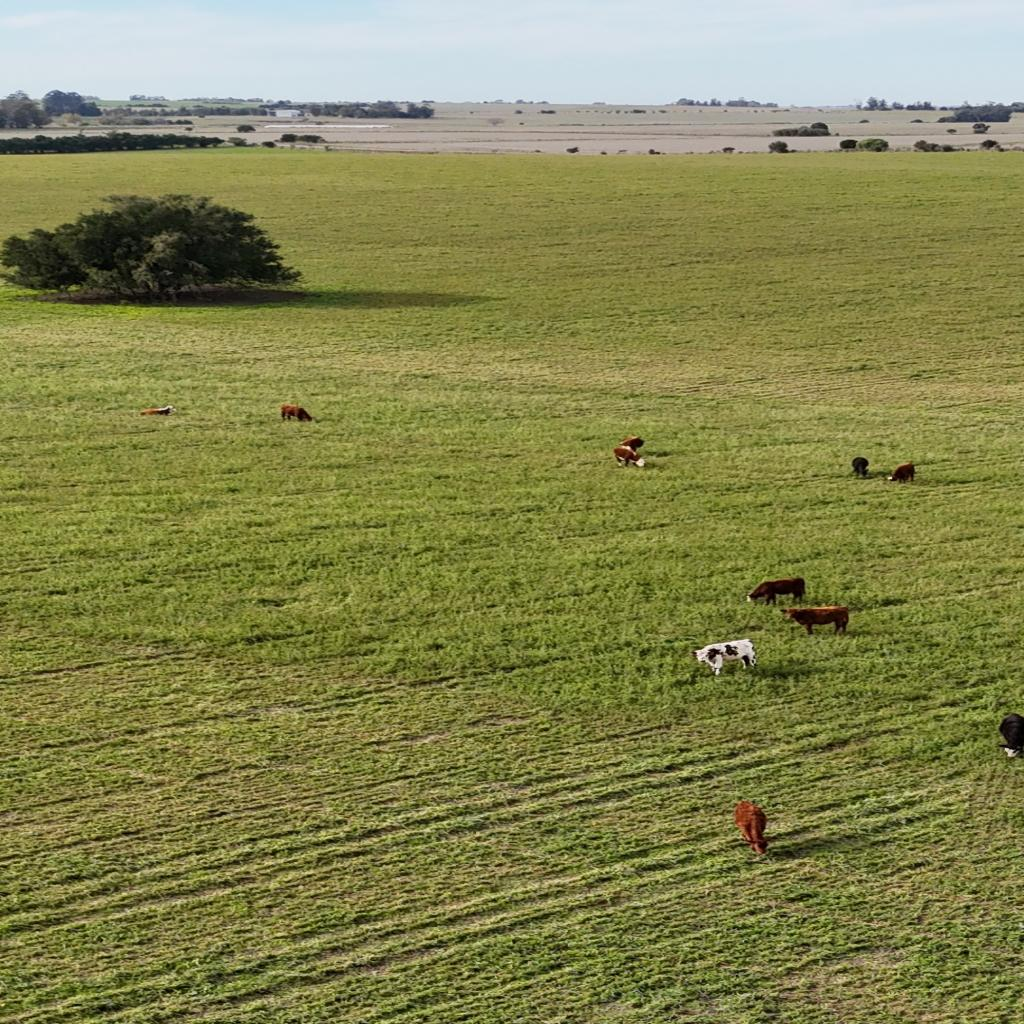cow: (697, 638, 762, 674), (734, 799, 772, 855), (778, 607, 848, 636), (746, 578, 804, 606), (998, 714, 1023, 751), (612, 446, 648, 468), (882, 462, 916, 483), (279, 404, 314, 422), (139, 404, 179, 416), (850, 457, 870, 477), (619, 436, 647, 450)
